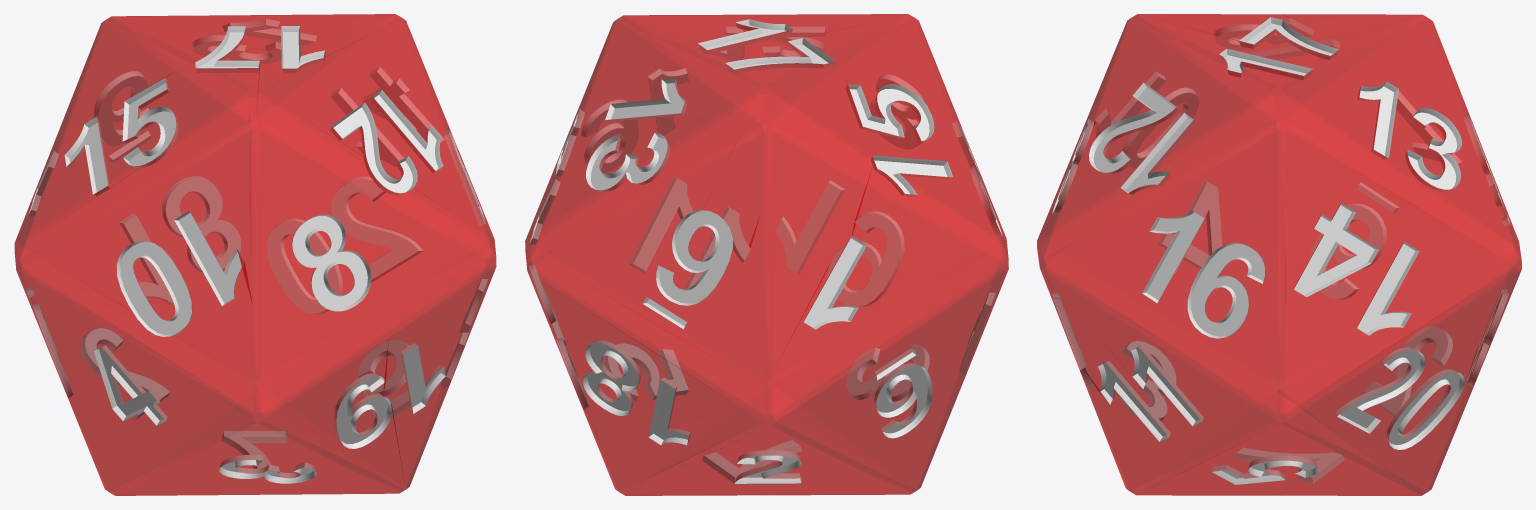
The picture shows the model from 3 angles, left to right: view 1: azimuth 30°, elevation 25°; view 2: azimuth 150°, elevation 25°; view 3: azimuth 270°, elevation 25°; orthographic projection.
Parts seen in each view (by area): view 1: export.007; view 2: export.007; view 3: export.007.
Part boxes in pixels (box(x1,y1,x2,y2)): export.007: box(14, 14, 496, 495); export.007: box(525, 14, 1008, 495); export.007: box(1037, 14, 1521, 495).
Size of the model in its own units: 0.064 by 0.0528 by 0.0562.
